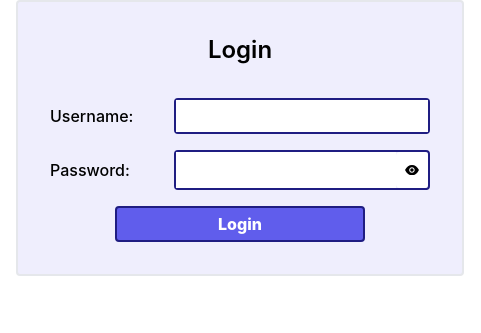
Login › should prevent user from logging in with the wrong credential
Type "sarahedo" into the field with test id "username" at [302, 116], box [176,100,428,132]
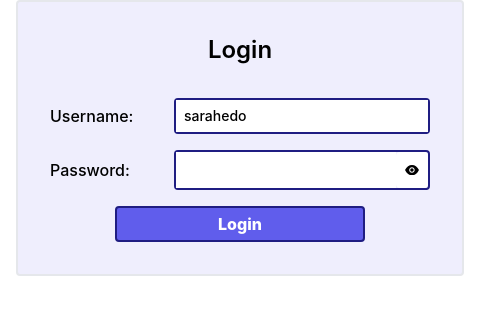
Type "password124" into the password field with test id "password" at [286, 170], box [176,152,396,188]
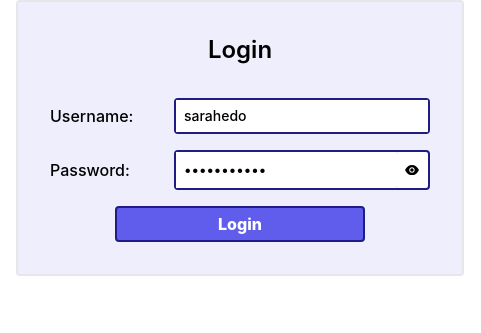
Click the button "login" at [240, 224], box [115,206,365,242]
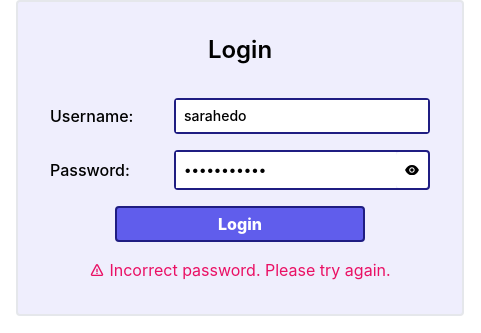
Expected: the text "Incorrect password. Please try again." is shown, [89,258,391,282]
